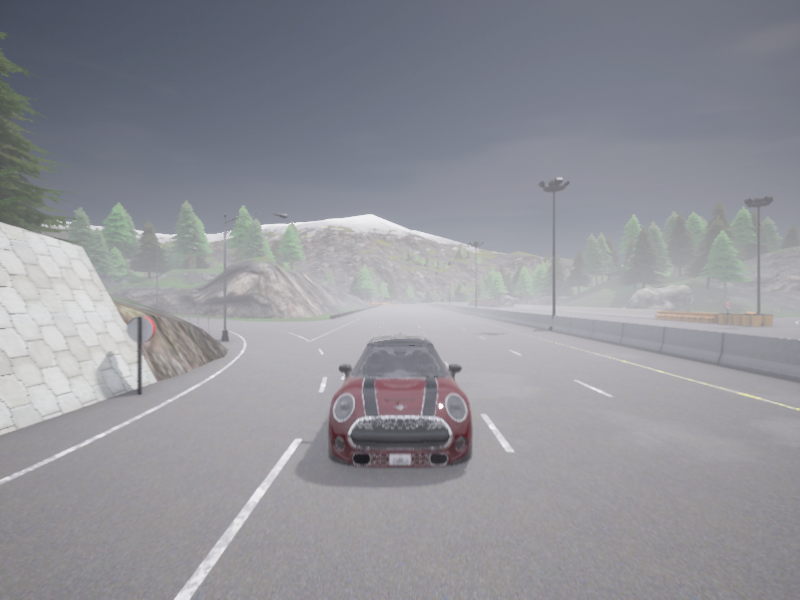vehicle: (327, 332, 472, 468)
